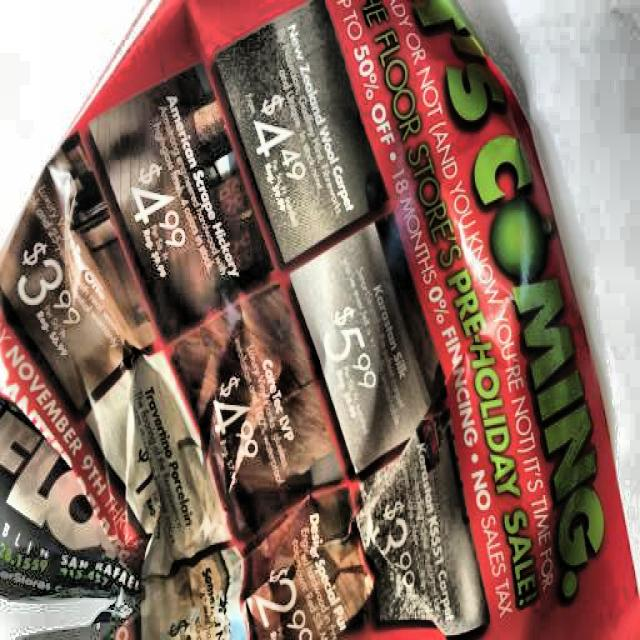paper: (3, 1, 632, 640)
